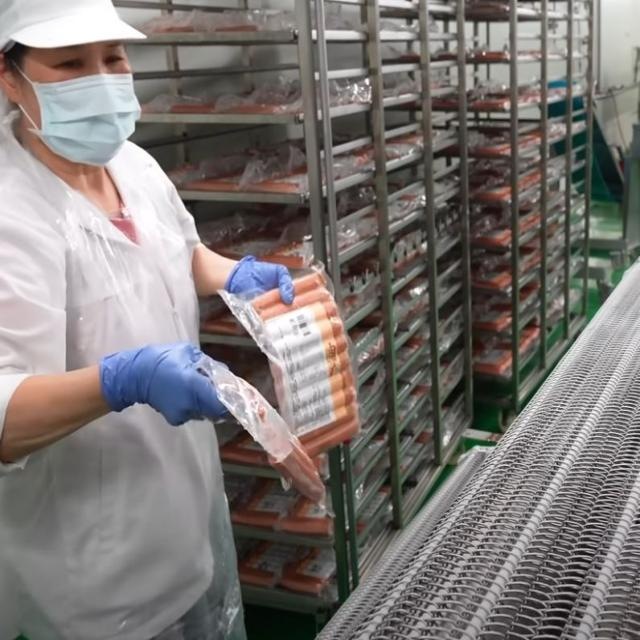gloved_hand: (97, 337, 233, 432), (223, 252, 300, 315)
